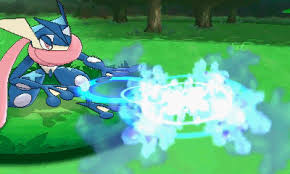greninja: (1, 1, 135, 132)
